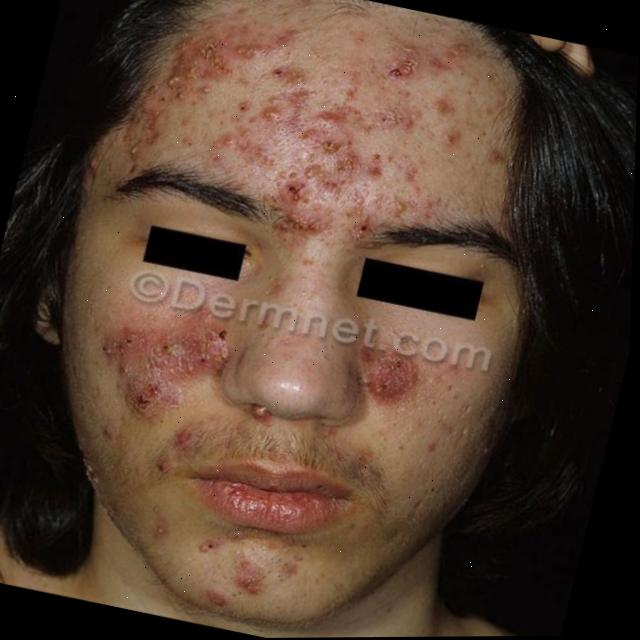Rosacea: (81, 0, 543, 282), (60, 290, 241, 483), (133, 512, 310, 628), (336, 331, 440, 422)
